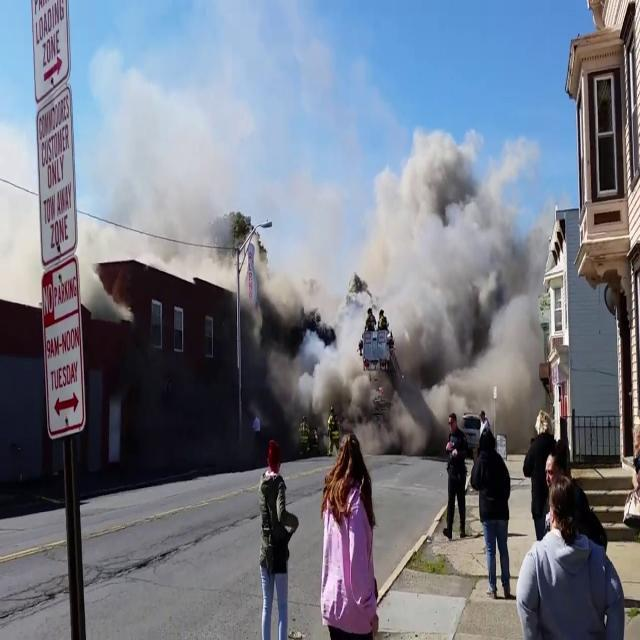Smoke: (258, 103, 545, 456), (343, 102, 546, 454)
